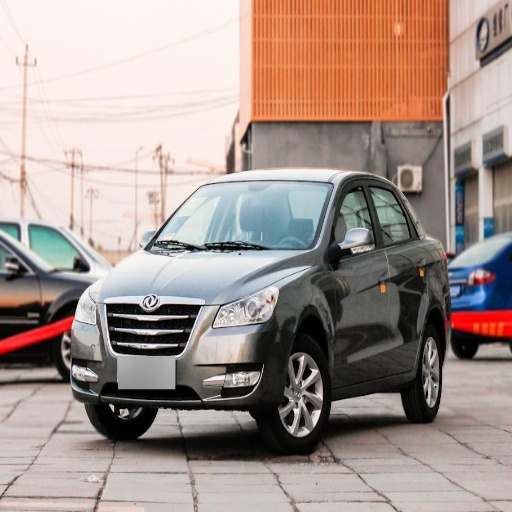front_bumper: (64, 289, 289, 409)
front_glass: (144, 181, 332, 254)
front_left_door: (328, 176, 392, 386)
